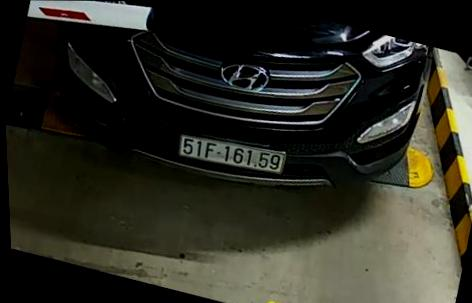License_Plate: (179, 129, 289, 182)
